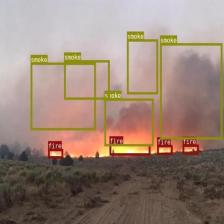fire: (109, 144, 150, 155), (182, 144, 199, 154), (157, 144, 172, 154), (48, 148, 62, 158)
smoke: (160, 43, 222, 139), (30, 62, 96, 130), (104, 98, 154, 146), (64, 60, 110, 99), (126, 39, 158, 94)
